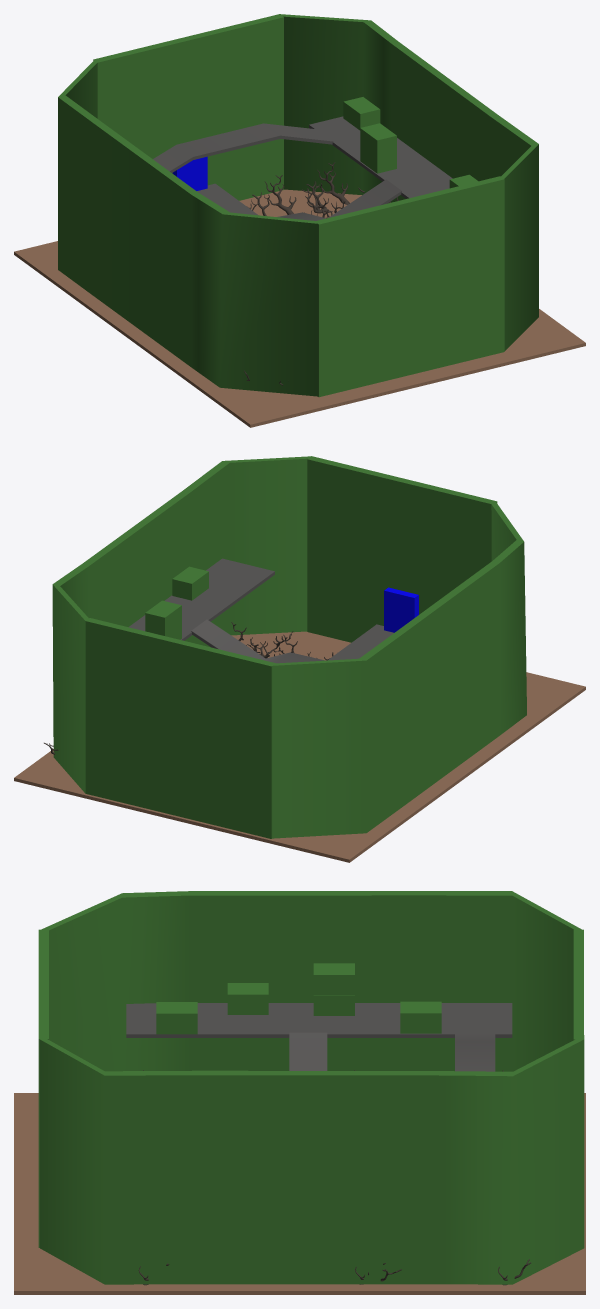
Rendered from Tile4.fbx.
The picture shows the model from 3 angles, top to bottom: view 1: azimuth 30°, elevation 25°; view 2: azimuth 150°, elevation 25°; view 3: azimuth 270°, elevation 25°; orthographic projection. The views are drawn at different scales.
Parts seen in each view (by area): view 1: TreeWall5, TreeWall7, TreeWall6, TreeWall8, Ground2, Pathway4, Pathway6, Pathway3, Bushes15, Bushes13, TreeWall9, Pathway2 (+3 smaller); view 2: TreeWall5, TreeWall6, TreeWall8, TreeWall7, Ground2, Pathway4, Pathway3, TreeWall10, Bushes16, Bushes15, Pathway2; view 3: TreeWall6, TreeWall5, Ground2, Pathway5, Pathway6, TreeWall7, Pathway3, Bushes, Bushes12, Bushes11, Bushes9, TreeWall8 (+1 smaller).
Boxes of the visible parts, box(x1,y1,x2,y2) form: TreeWall5: box(58, 58, 325, 396); TreeWall7: box(317, 176, 504, 397); TreeWall6: box(272, 14, 538, 350); TreeWall8: box(93, 14, 283, 200); Ground2: box(14, 189, 585, 427); Pathway4: box(309, 116, 452, 198); Pathway6: box(153, 123, 333, 172); Pathway3: box(277, 179, 401, 220); Bushes15: box(360, 123, 396, 156); Bushes13: box(343, 97, 380, 130); TreeWall9: box(172, 156, 207, 190); Pathway2: box(197, 183, 258, 215); TreeWall5: box(264, 500, 526, 838); TreeWall6: box(52, 456, 317, 795); TreeWall8: box(86, 618, 275, 838); TreeWall7: box(307, 456, 497, 642); Ground2: box(14, 631, 585, 862); Pathway4: box(128, 558, 274, 640); Pathway3: box(191, 619, 325, 663); TreeWall10: box(384, 587, 418, 632); Bushes16: box(172, 566, 208, 600); Bushes15: box(145, 600, 181, 634); Pathway2: box(327, 624, 393, 660); TreeWall6: box(40, 1035, 584, 1284); TreeWall5: box(40, 891, 583, 1071); Ground2: box(14, 1093, 585, 1294); Pathway5: box(126, 1003, 512, 1037); Pathway6: box(455, 1033, 495, 1071); TreeWall7: box(38, 929, 48, 1247); Pathway3: box(289, 1032, 327, 1070); Bushes: box(156, 1002, 197, 1034); Bushes12: box(400, 1001, 441, 1033); Bushes11: box(313, 963, 354, 995); Bushes9: box(227, 983, 268, 1014); TreeWall8: box(573, 929, 583, 1039).
Size of the model in its own units: 47.18 by 24.7 by 56.97.
